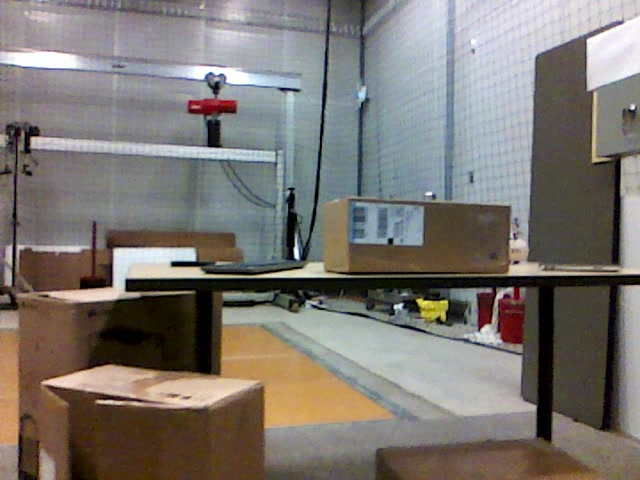box: (17, 288, 214, 480), (40, 363, 266, 479), (327, 201, 511, 274), (377, 439, 600, 480)
